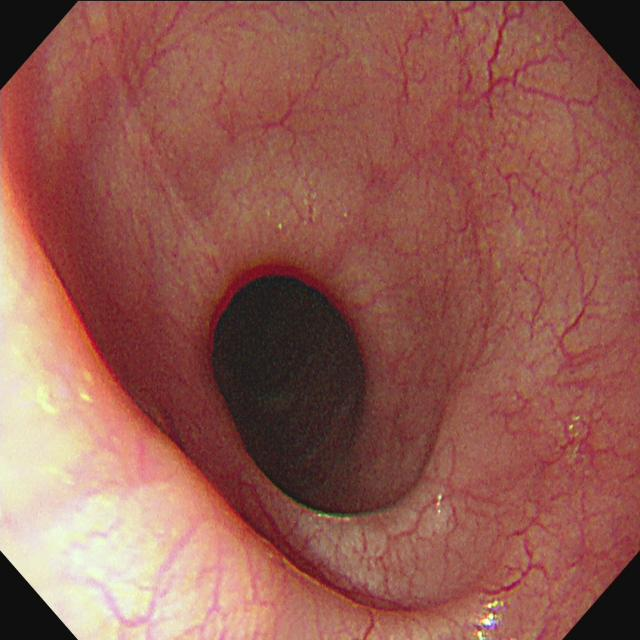U: (475, 598, 506, 640)
